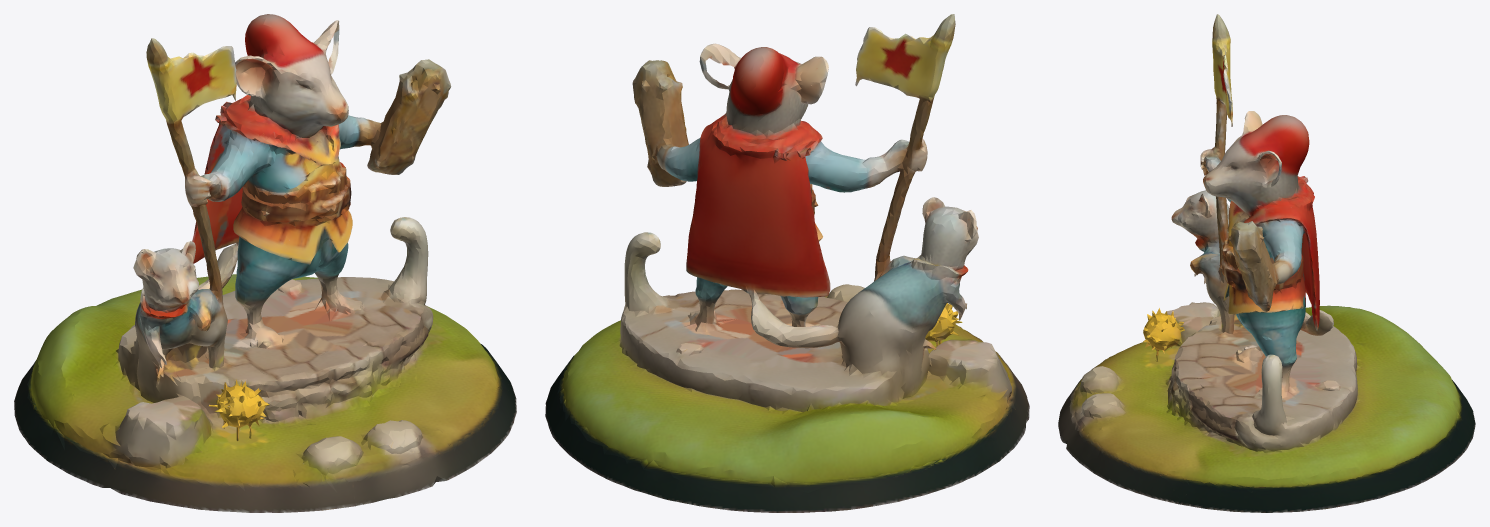
The picture shows the model from 3 angles, left to right: view 1: azimuth 30°, elevation 25°; view 2: azimuth 150°, elevation 25°; view 3: azimuth 270°, elevation 25°; orthographic projection. The views are drawn at different scales.
Visible parts, largest first — view 1: RallyThePack; view 2: RallyThePack; view 3: RallyThePack.
Part boxes in pixels (x1,y1,x2,y2): RallyThePack: [14, 14, 516, 512]; RallyThePack: [545, 14, 1029, 512]; RallyThePack: [1058, 14, 1475, 512].
Bounding box in the file's own units: 1.9 × 1.77 × 1.89.
Materials: 1 (1 with a texture image).
